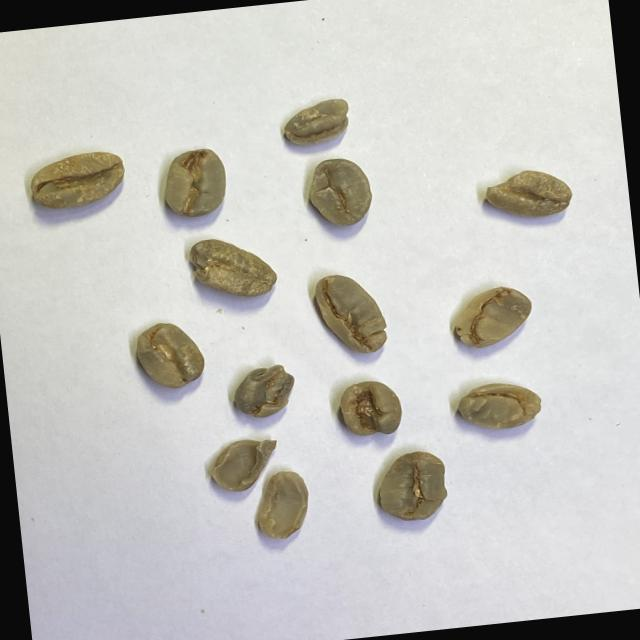bad: (312, 266, 393, 361), (182, 228, 280, 306), (24, 146, 130, 214), (372, 446, 452, 526), (448, 282, 538, 352), (130, 316, 208, 393), (482, 162, 576, 225), (158, 144, 232, 223), (304, 152, 376, 232), (452, 376, 546, 436), (250, 466, 313, 542), (205, 433, 282, 495), (334, 376, 406, 442), (228, 360, 299, 422), (279, 94, 354, 150)
